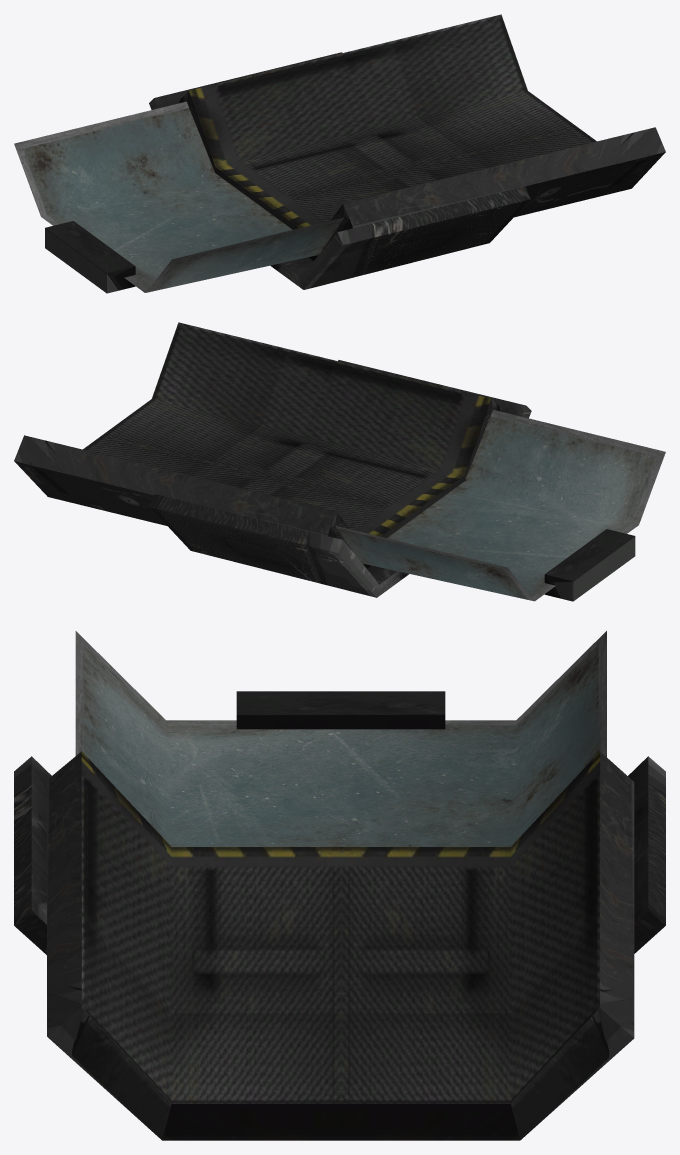
Rendered from t6_wpn_shield_pickup_world_LOD2.obj.
3 renders of one model, top to bottom at view 1: azimuth 30°, elevation 25°; view 2: azimuth 150°, elevation 25°; view 3: azimuth 270°, elevation 25°, orthographic. The views are drawn at different scales.
Parts seen in each view (by area): view 1: mtl_t6_wpn_shield, mtl_t6_wpn_shield_glass, mtl_t6_wpn_shield_nodecal; view 2: mtl_t6_wpn_shield, mtl_t6_wpn_shield_glass, mtl_t6_wpn_shield_nodecal; view 3: mtl_t6_wpn_shield, mtl_t6_wpn_shield_glass, mtl_t6_wpn_shield_nodecal.
Boxes of the visible parts, x1,y1,x2,y2 form: mtl_t6_wpn_shield: [45, 14, 665, 293]; mtl_t6_wpn_shield_glass: [14, 101, 344, 292]; mtl_t6_wpn_shield_nodecal: [154, 52, 342, 275]; mtl_t6_wpn_shield: [14, 322, 635, 601]; mtl_t6_wpn_shield_glass: [335, 409, 665, 601]; mtl_t6_wpn_shield_nodecal: [338, 360, 525, 583]; mtl_t6_wpn_shield: [14, 691, 665, 1140]; mtl_t6_wpn_shield_glass: [75, 631, 606, 846]; mtl_t6_wpn_shield_nodecal: [31, 756, 648, 924].
Size of the model in its own units: 135 by 24.54 by 90.14.
